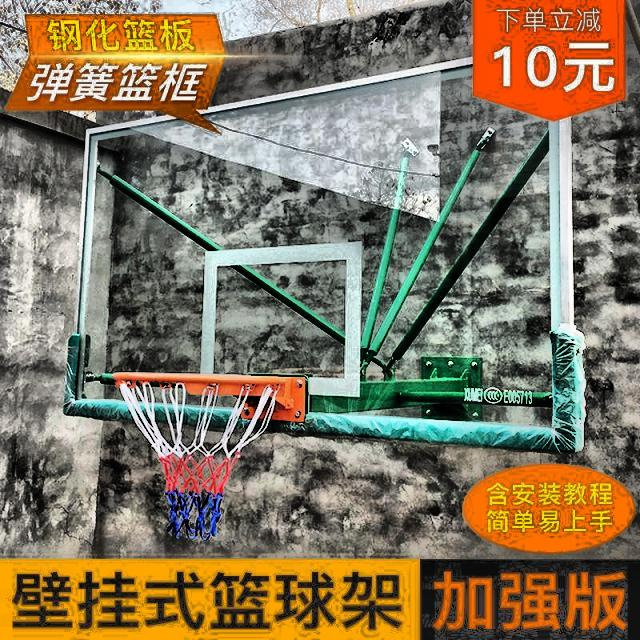rim: (108, 371, 284, 540)
